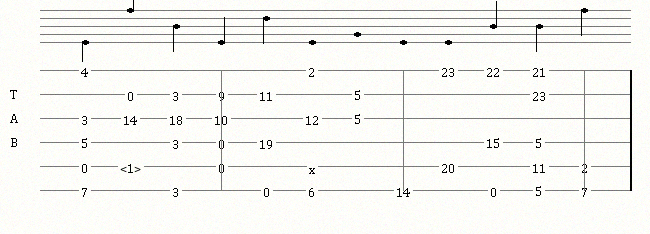0: (81, 160, 92, 173), (127, 88, 138, 101), (218, 160, 229, 173), (218, 136, 229, 149), (263, 184, 274, 197), (490, 184, 501, 197)
10: (214, 112, 232, 125)
11: (259, 88, 277, 101), (532, 160, 550, 173)
12: (305, 112, 323, 125)
14: (123, 112, 141, 125), (396, 184, 414, 197)
15: (486, 135, 504, 149)
18: (169, 112, 187, 125)
19: (259, 136, 277, 149)
2: (308, 64, 319, 77), (581, 160, 592, 173)
20: (441, 160, 459, 173)
21: (532, 64, 550, 77)
22: (486, 64, 504, 77)
23: (441, 64, 459, 77), (532, 88, 550, 101)
3: (81, 112, 92, 125), (172, 184, 183, 197), (172, 136, 183, 149), (172, 88, 183, 101)
4: (81, 64, 92, 77)
5: (81, 135, 92, 149), (354, 111, 365, 125), (354, 87, 365, 101), (535, 135, 546, 149), (535, 183, 546, 197)
6: (308, 184, 319, 197)
7: (81, 184, 92, 197), (581, 184, 592, 197)
9: (218, 88, 229, 101)
harmonic: (120, 160, 145, 173)
x: (309, 161, 319, 171)
